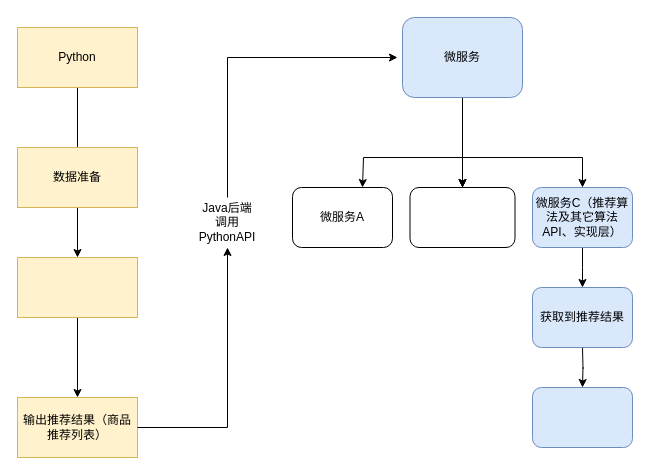
This 650x475 diagram has some shape labels left out. Each missing label, with the box of its shape:
将推荐商品展示给用户: (532, 386, 632, 448)
微服务B: (409, 186, 515, 248)
数据处理（推荐算法开发）: (16, 256, 138, 318)
